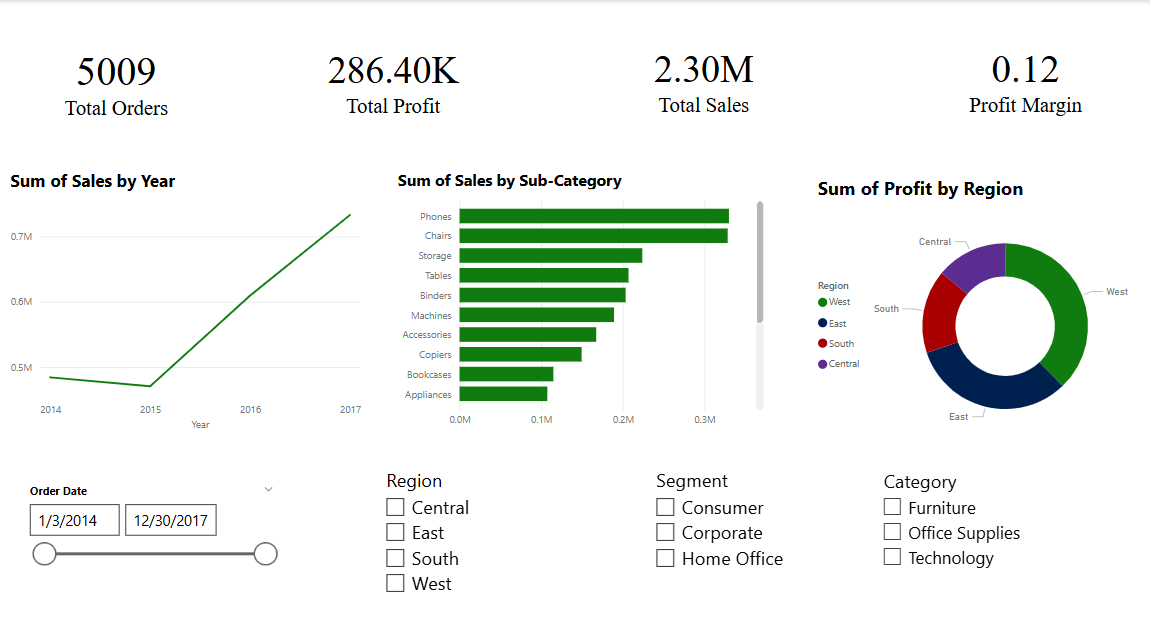

What the dashboard file says about the page in this screenshot:
{"tool":"powerbi","page":{"name":"Page 1","canvas":[1280,720],"ordinal":0},"visuals":[{"type":"card","fields":{"Values":["Sample - Superstore.Total Orders"]},"box":[9.6,0,242.9,175.6],"z":0},{"type":"card","fields":{"Values":["Sample - Superstore.Total Profit"]},"box":[301.9,8.2,266.2,157.8],"z":1},{"type":"card","fields":{"Values":["Sample - Superstore.Total Sales"]},"box":[628.5,11,295,150.9],"z":2},{"type":"card","fields":{"Values":["Sample - Superstore.Profit Margin"]},"box":[1007.2,6.9,244.3,157.8],"z":3},{"type":"lineChart","fields":{"Category":["Sample - Superstore.Order Date.Variation.Date Hierarchy.Year","Sample - Superstore.Order Date.Variation.Date Hierarchy.Quarter","Sample - Superstore.Order Date.Variation.Date Hierarchy.Month","Sample - Superstore.Order Date.Variation.Date Hierarchy.Day"],"Y":["Sum(Sample - Superstore.Sales)"]},"box":[9.6,185.2,395.2,292.3],"z":4},{"type":"clusteredBarChart","fields":{"Category":["Sample - Superstore.Sub-Category"],"Y":["Sum(Sample - Superstore.Sales)"]},"box":[435,185.2,411.7,292.3],"z":5},{"type":"donutChart","fields":{"Category":["Sample - Superstore.Region"],"Y":["Sum(Sample - Superstore.Profit)"]},"box":[896.1,192.1,366.4,306],"z":6},{"type":"slicer","fields":{"Values":["Sample - Superstore.Order Date"]},"box":[23.3,525.6,292.3,122.1],"z":7},{"type":"slicer","fields":{"Values":["Sample - Superstore.Region"]},"box":[414.4,507.7,225,171.5],"z":8},{"type":"slicer","fields":{"Values":["Sample - Superstore.Segment"]},"box":[710.8,507.7,185.2,171.5],"z":9},{"type":"slicer","fields":{"Values":["Sample - Superstore.Category"]},"box":[960.6,509.1,194.9,171.5],"z":10}]}

Visuals, with their boxes on the page's 1280x720 design canvas (x1, y1, x2, y2). These are canvas units, not pixel positions in the 1150x620 screenshot, which may show the page scaled, cropped or inside an application window:
card - Sample - Superstore.Total Orders: rect(10, 0, 252, 176)
card - Sample - Superstore.Total Profit: rect(302, 8, 568, 166)
card - Sample - Superstore.Total Sales: rect(628, 11, 924, 162)
card - Sample - Superstore.Profit Margin: rect(1007, 7, 1252, 165)
lineChart - Sample - Superstore.Order Date.Variation.Date Hierarchy.Year x Sample - Superstore.Order Date.Variation.Date Hierarchy.Quarter: rect(10, 185, 405, 478)
clusteredBarChart - Sample - Superstore.Sub-Category x Sum(Sample - Superstore.Sales): rect(435, 185, 847, 478)
donutChart - Sample - Superstore.Region x Sum(Sample - Superstore.Profit): rect(896, 192, 1262, 498)
slicer - Sample - Superstore.Order Date: rect(23, 526, 316, 648)
slicer - Sample - Superstore.Region: rect(414, 508, 639, 679)
slicer - Sample - Superstore.Segment: rect(711, 508, 896, 679)
slicer - Sample - Superstore.Category: rect(961, 509, 1156, 681)
